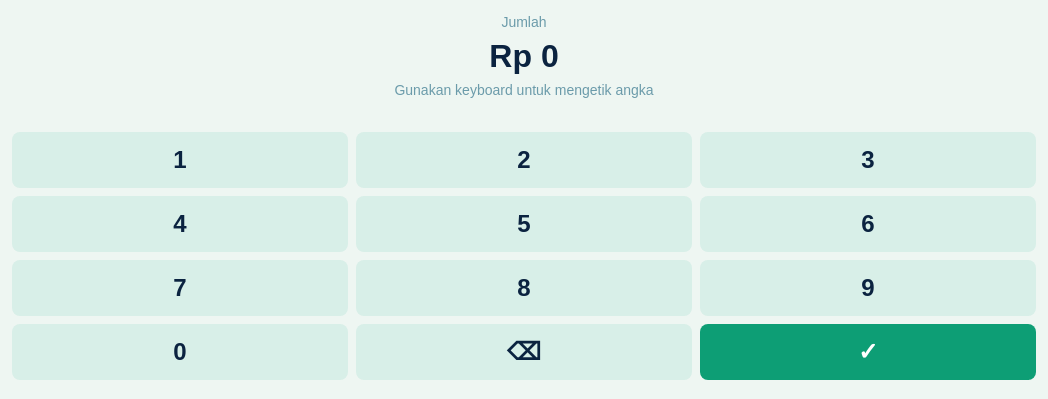
Test: NumpadStep › displays formatted IDR amount as digits are entered
Click the button labelled "1" at (180, 160), box [12, 132, 348, 188]
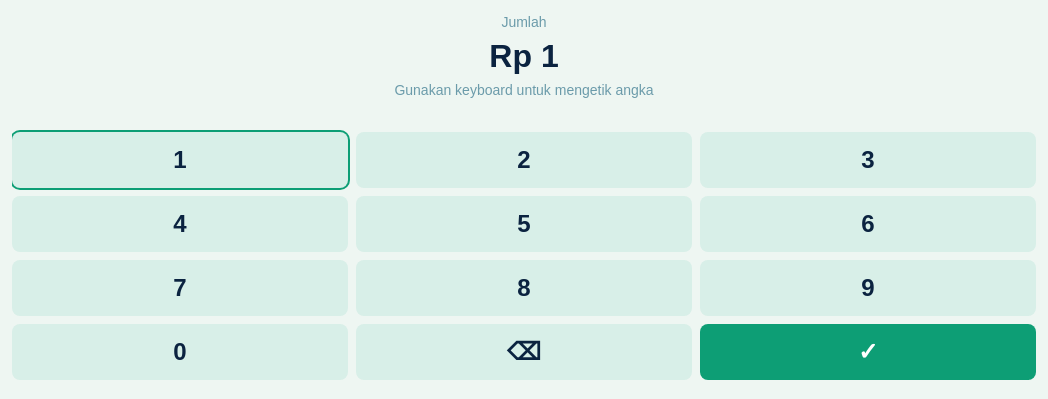
Click the button labelled "5" at (524, 224), box [356, 196, 692, 252]
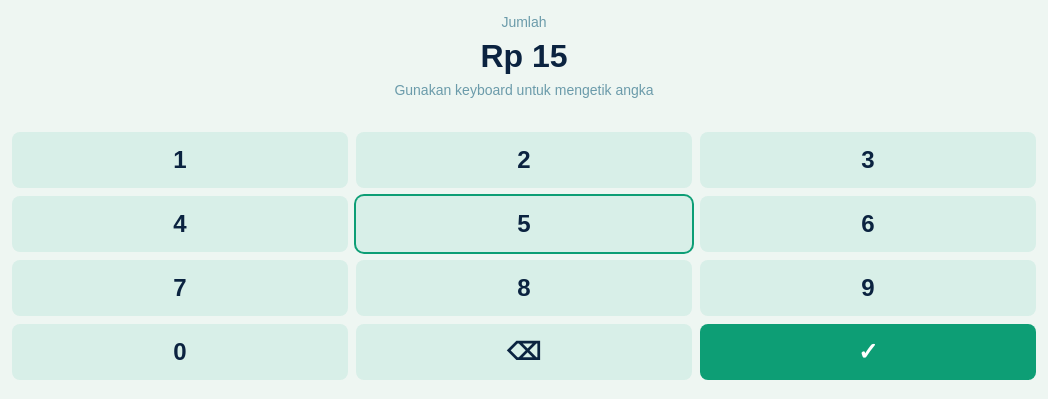
Click the button labelled "0" at (180, 352), box [12, 324, 348, 380]
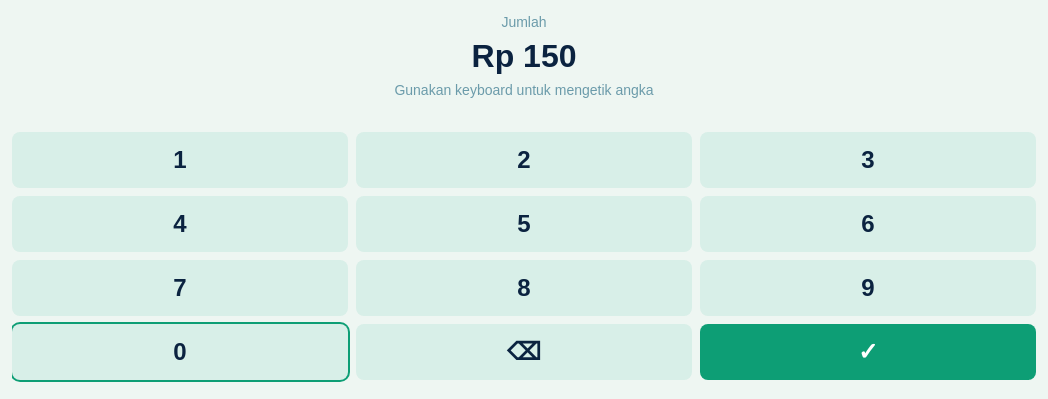
Click the button labelled "0" at (180, 352), box [12, 324, 348, 380]
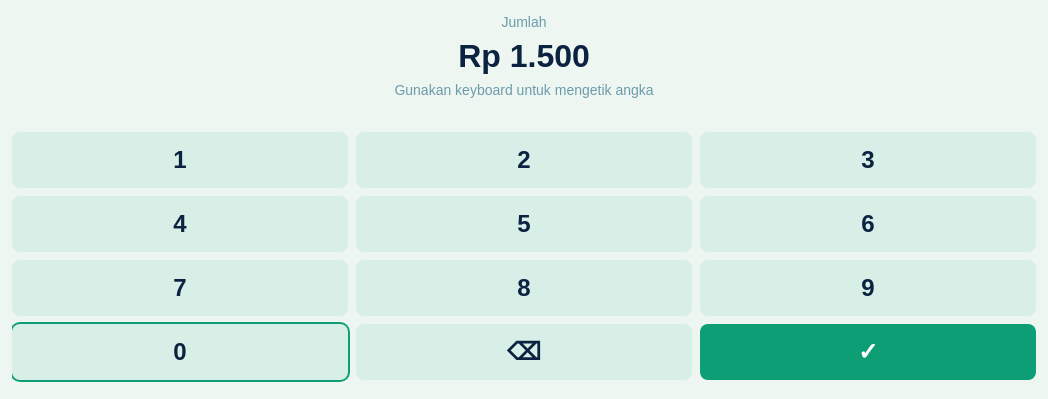
Click the button labelled "0" at (180, 352), box [12, 324, 348, 380]
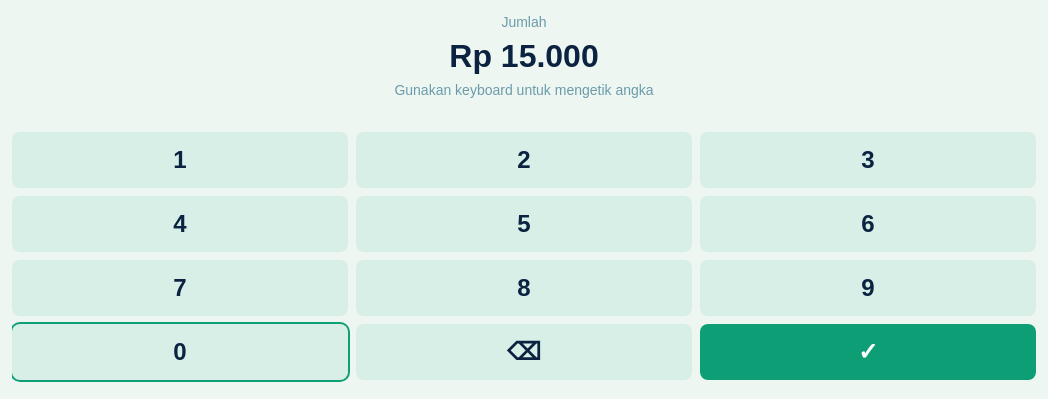
Check: the text named "Jumlah:" shows "15.000", box [449, 38, 599, 74]
